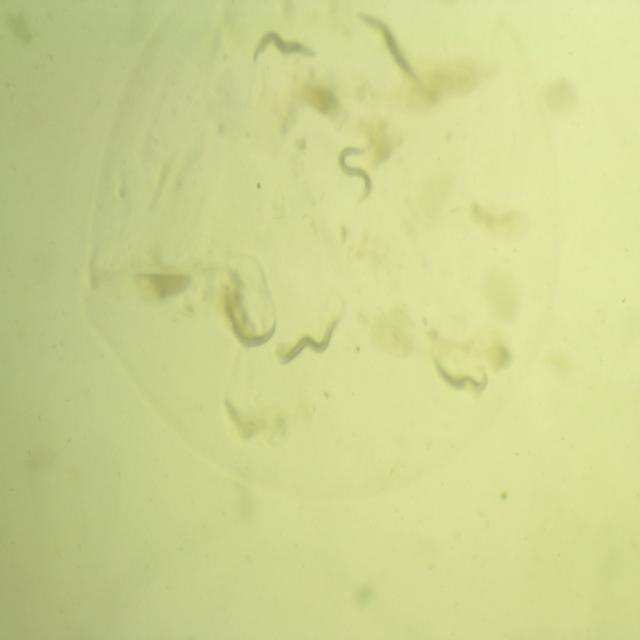worm: (269, 309, 347, 371), (215, 280, 280, 352), (430, 349, 494, 401), (335, 141, 376, 209)
